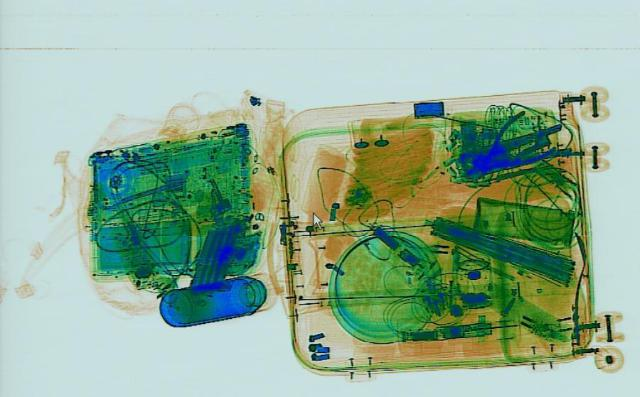Pliers: (439, 108, 576, 187), (446, 120, 586, 179)
